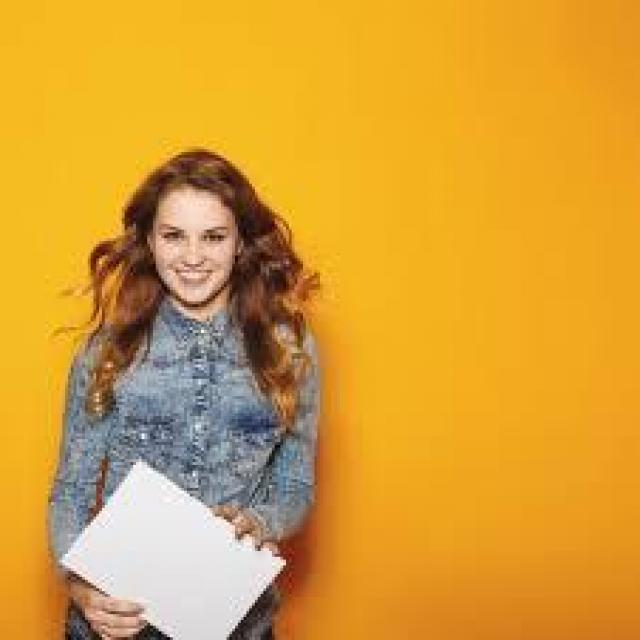person: (42, 146, 320, 637)
